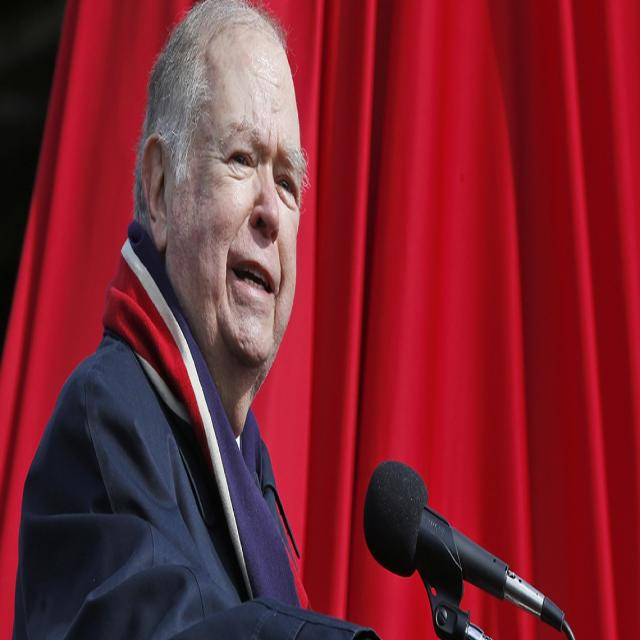human: (17, 3, 383, 640)
